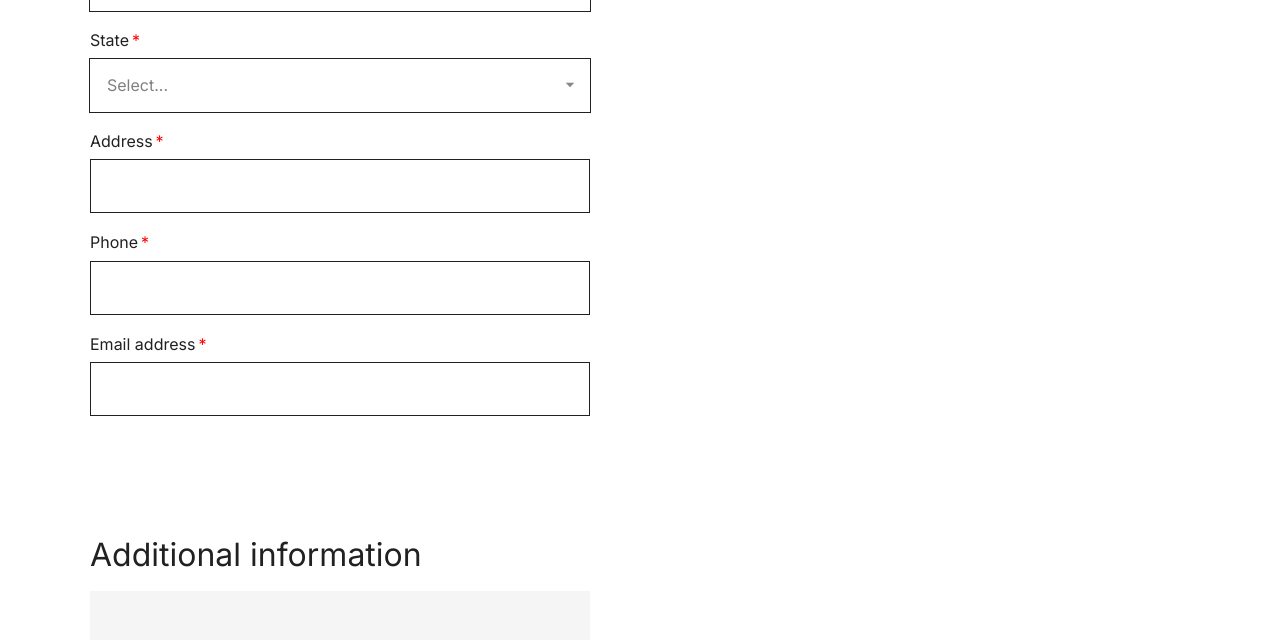
Test: Checkout › should display an error message if email is not in a valid format
(page scrolled)
Type "invalid?@gmail.co" into the field labelled "Email address*" at (340, 389), box x1=90 y1=362 x2=590 y2=416
(page scrolled)
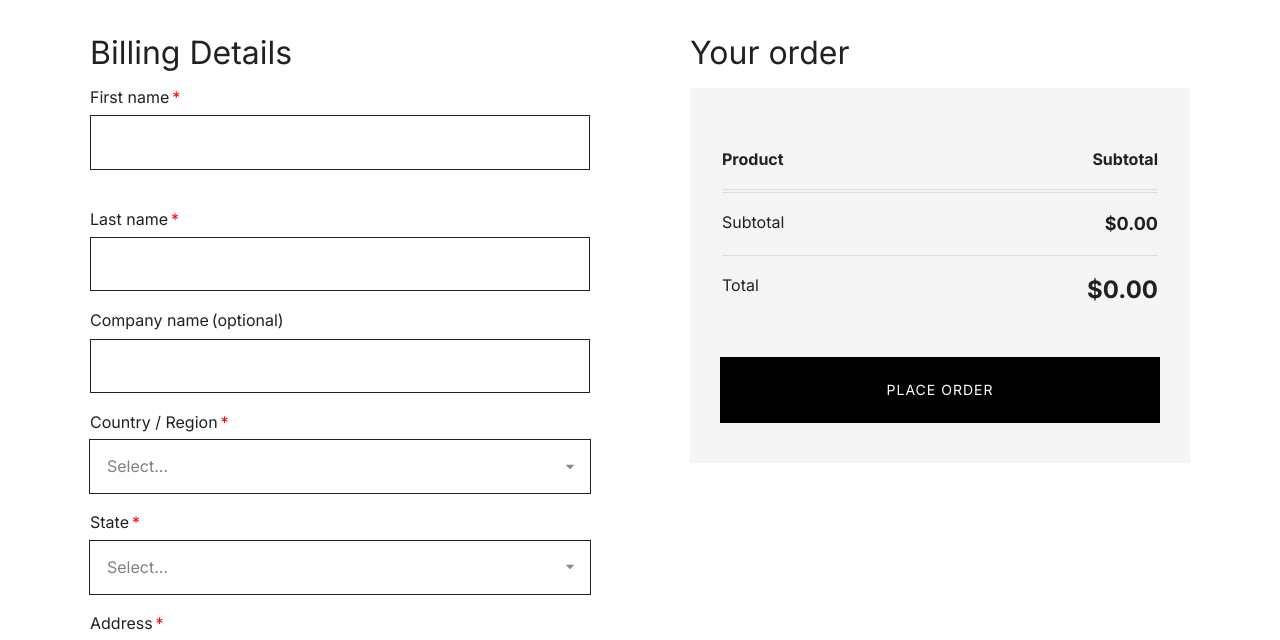
Click the button "PLACE ORDER" at (940, 390), box x1=720 y1=357 x2=1160 y2=423
(page scrolled)
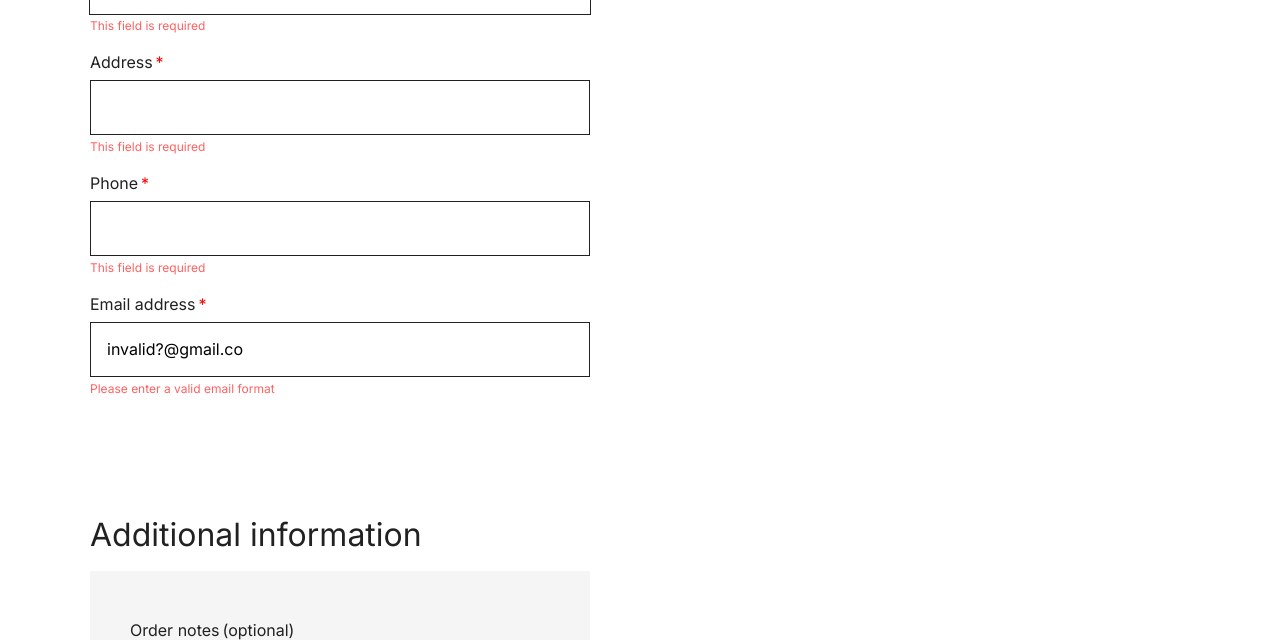
expect the text "Please enter a valid email format" is shown: met, box x1=90 y1=381 x2=275 y2=396
